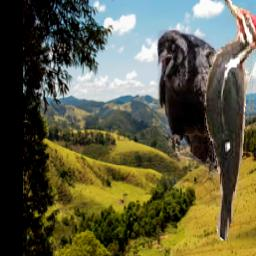Crow: (157, 30, 231, 207)
Woodpecker: (203, 0, 256, 240)
